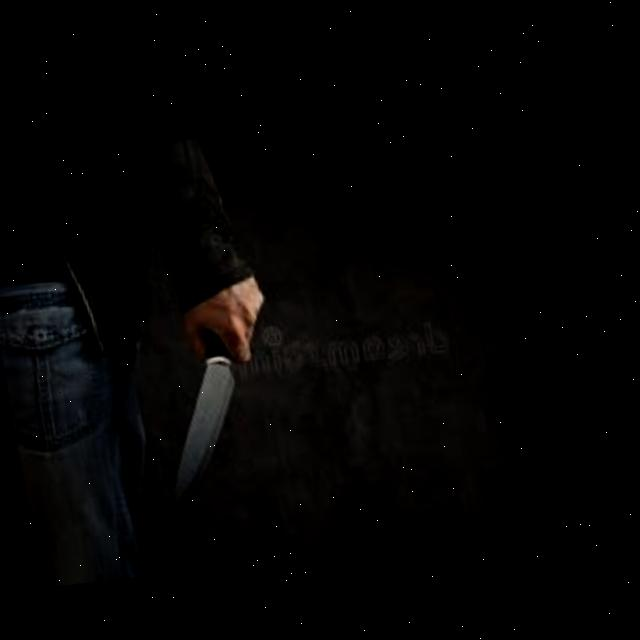knife: (0, 117, 333, 600), (142, 333, 266, 511), (177, 271, 272, 367)
